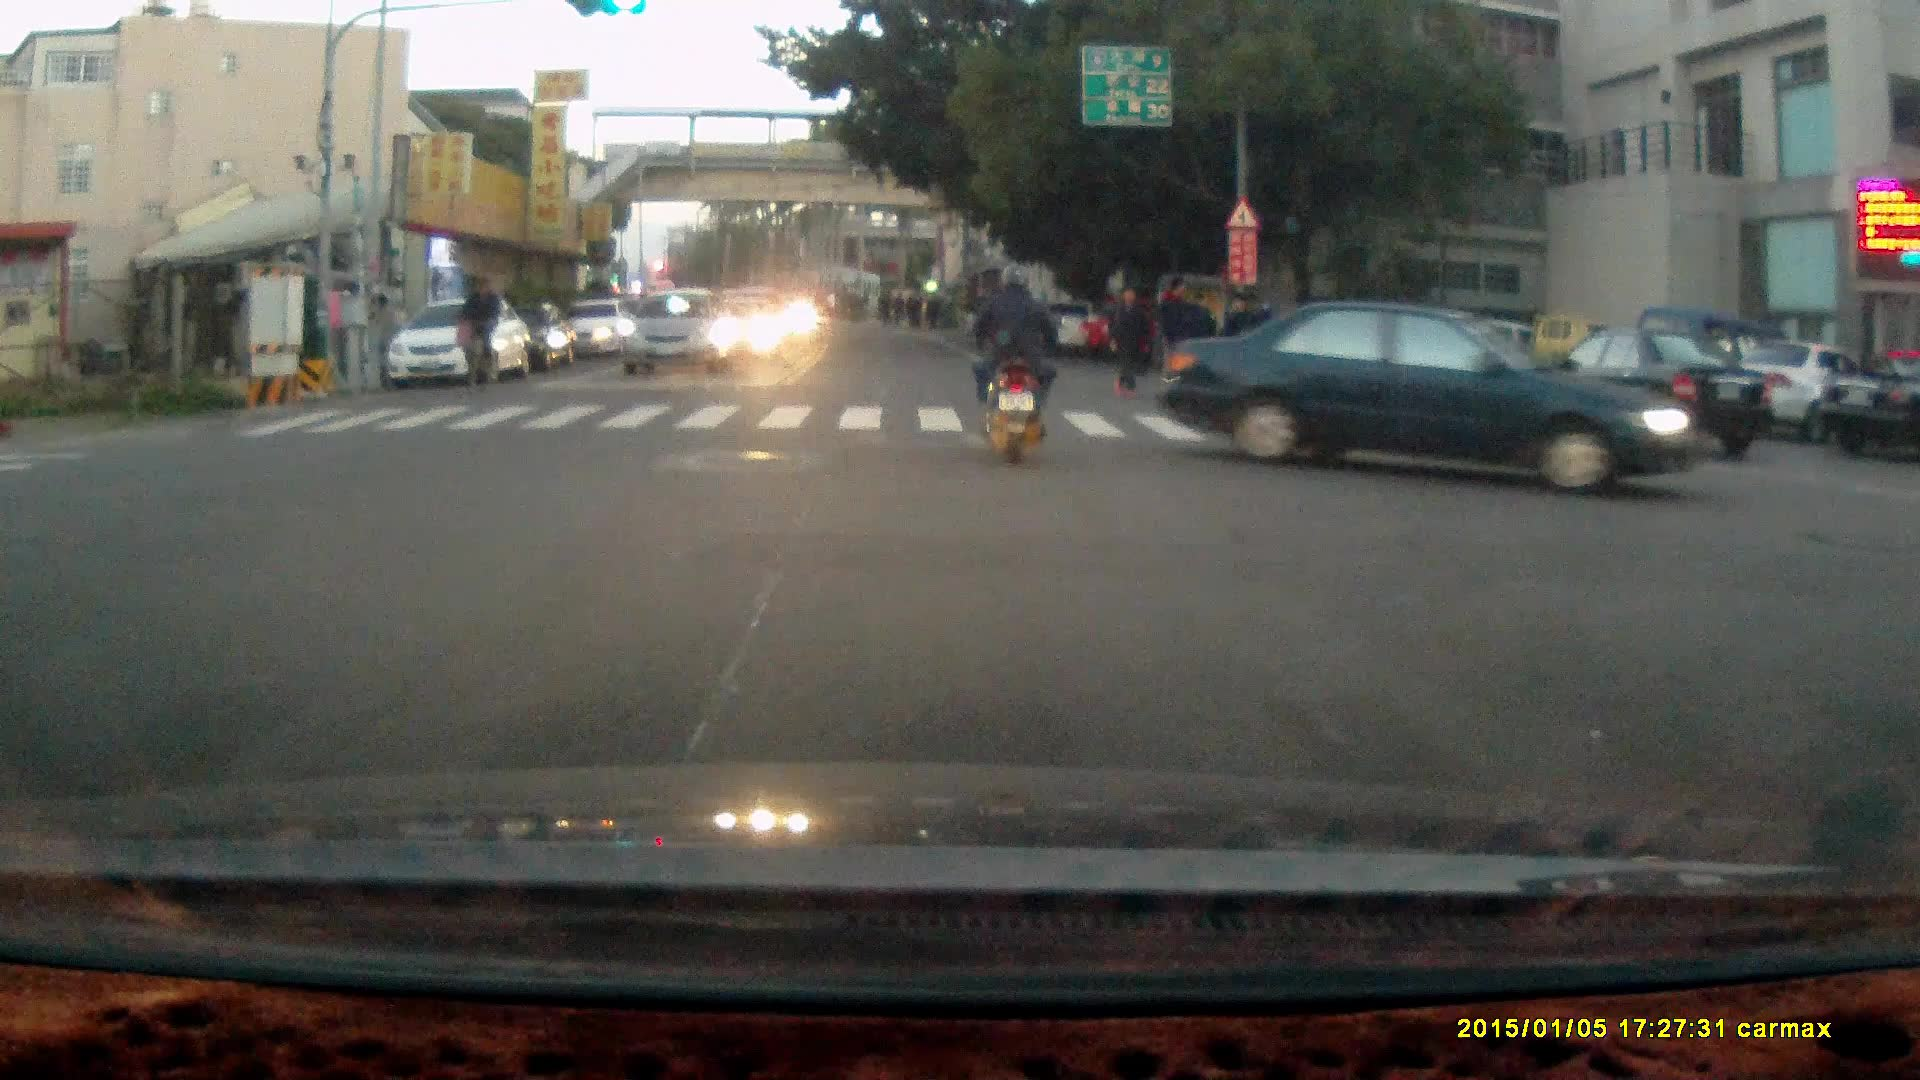pedestrian: (1108, 283, 1147, 396), (1156, 273, 1193, 389), (1182, 289, 1215, 376)
rider: (966, 259, 1060, 465), (454, 270, 499, 391)
vehicle: (1151, 289, 1712, 496), (1528, 327, 1777, 452), (1711, 337, 1897, 441), (385, 293, 539, 390), (617, 288, 741, 380), (1815, 354, 1920, 461)
